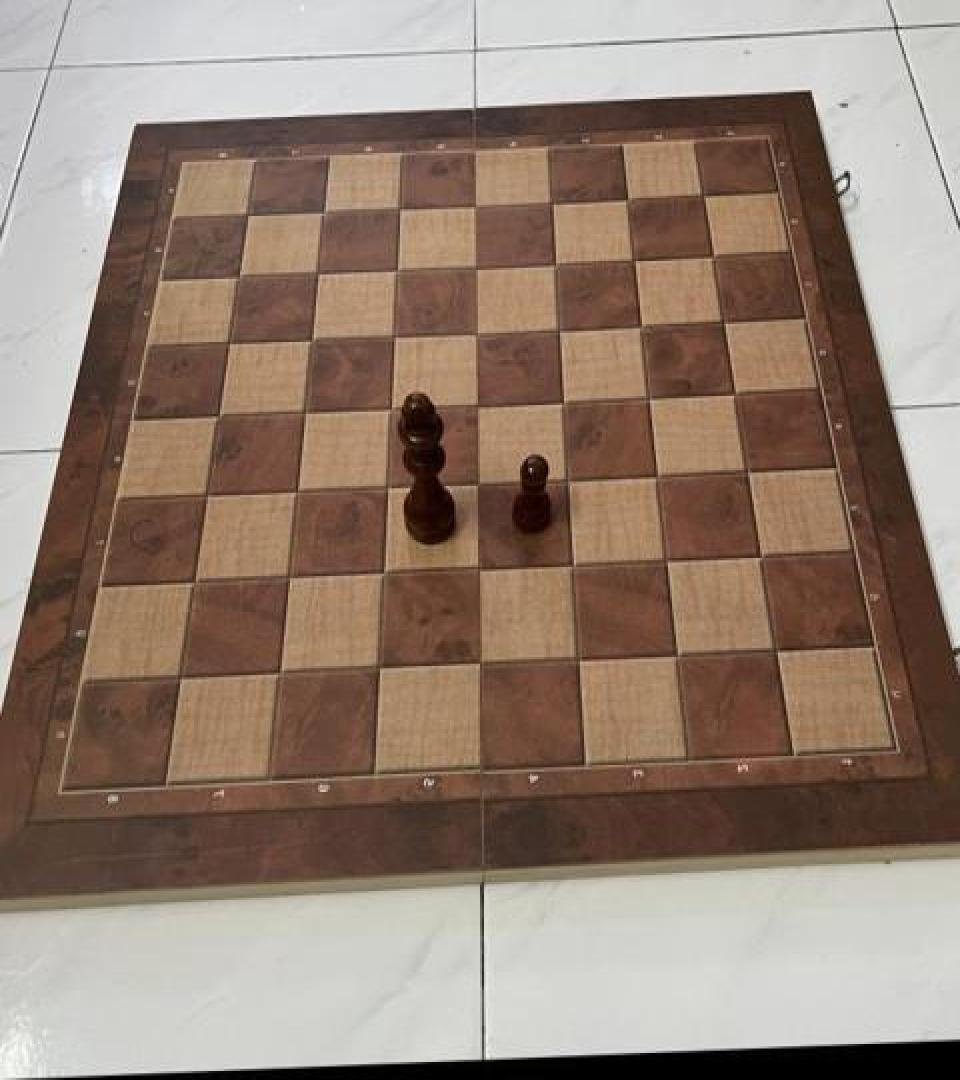xcorner: (690, 173, 724, 212), (222, 255, 256, 294), (231, 194, 265, 232), (308, 190, 342, 228), (384, 187, 418, 225), (461, 184, 495, 222), (537, 180, 571, 218), (613, 177, 647, 215), (302, 252, 336, 290), (381, 249, 415, 287), (461, 246, 495, 284), (540, 242, 574, 280), (620, 238, 654, 276), (699, 235, 733, 273), (212, 322, 246, 360), (295, 318, 329, 356), (378, 315, 412, 353), (461, 312, 495, 350), (544, 308, 578, 346), (626, 305, 660, 343), (709, 300, 743, 338), (202, 395, 236, 433), (288, 392, 322, 430), (375, 388, 409, 426), (461, 384, 495, 422), (547, 380, 581, 418), (634, 377, 668, 415), (720, 372, 754, 410), (190, 475, 224, 513), (281, 472, 315, 510), (371, 467, 405, 505), (461, 464, 495, 502), (551, 459, 585, 497), (642, 456, 676, 494), (732, 451, 766, 489), (178, 562, 212, 600), (272, 558, 306, 596), (367, 554, 401, 592), (461, 549, 495, 587), (556, 546, 590, 584), (650, 541, 684, 579), (745, 537, 779, 575), (164, 658, 198, 696), (263, 654, 297, 692), (362, 649, 396, 687), (462, 645, 496, 683), (561, 640, 595, 678), (660, 636, 694, 674), (759, 631, 793, 669)
